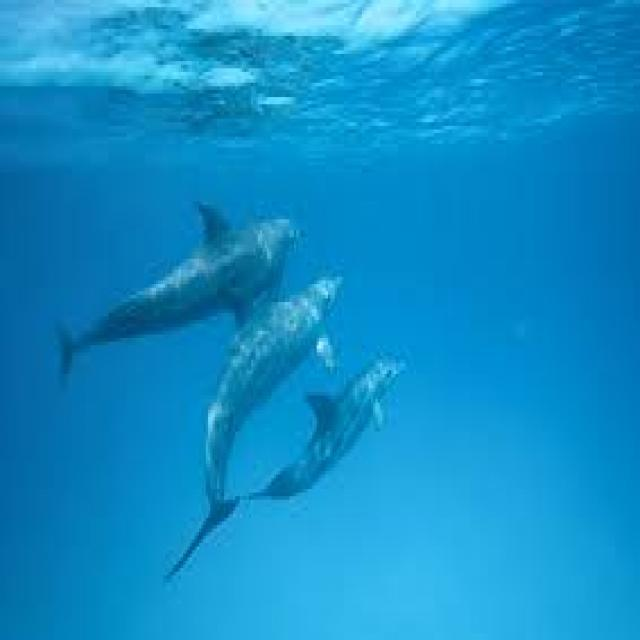dolphin: (162, 270, 350, 554), (52, 187, 306, 306), (271, 331, 432, 507)
